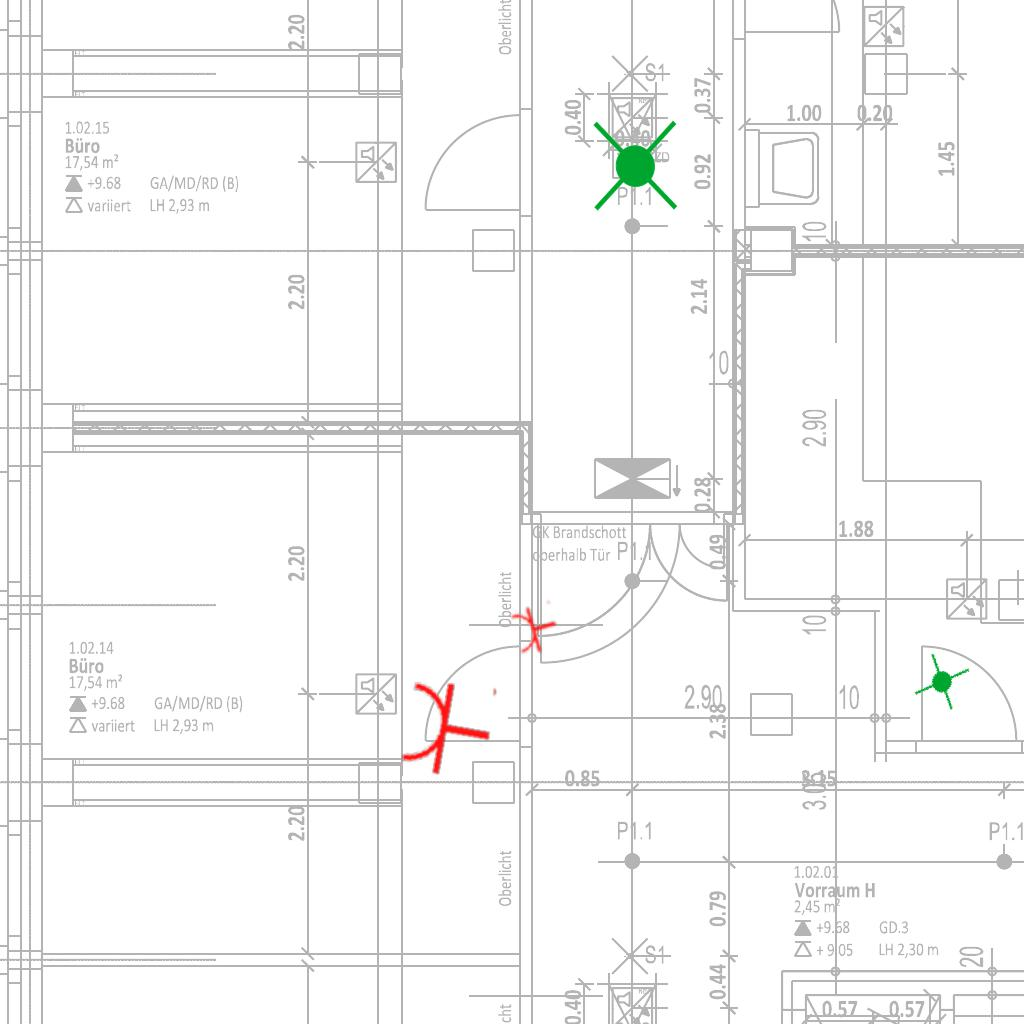Notlichtbaustein_in_Allgemeinbeleuchtug_engebaut_Einbau_(1UG_und_2UG_Aufbauvaria: (585, 116, 688, 216), (909, 648, 976, 716)
Schukosteckdose_einfach: (396, 670, 501, 784), (507, 598, 564, 658)
